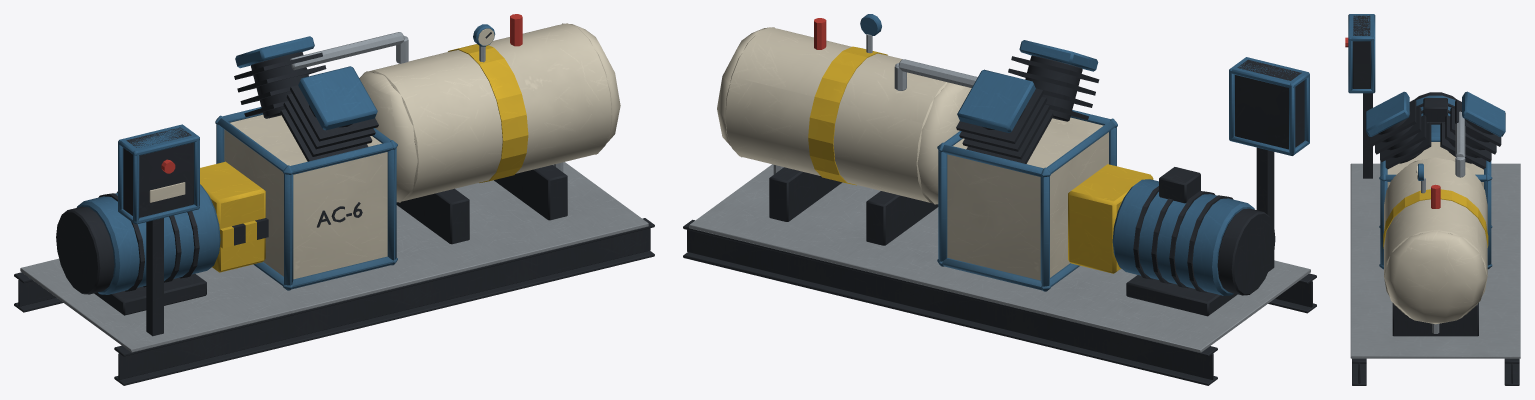
File: compressor_unit.glb
The picture shows the model from 3 angles, left to right: view 1: azimuth 30°, elevation 25°; view 2: azimuth 150°, elevation 25°; view 3: azimuth 270°, elevation 25°; orthographic projection. The views are drawn at different scales.
Visible parts, largest first — view 1: compressor_unit; view 2: compressor_unit; view 3: compressor_unit.
Boxes of the visible parts, left/top/right/bottom form: compressor_unit: left=14, top=14, right=654, bottom=385; compressor_unit: left=683, top=14, right=1316, bottom=385; compressor_unit: left=1345, top=14, right=1520, bottom=385.
Size of the model in its own units: 3.81 by 1.6 by 1.42.
16 materials, 16 textured.
